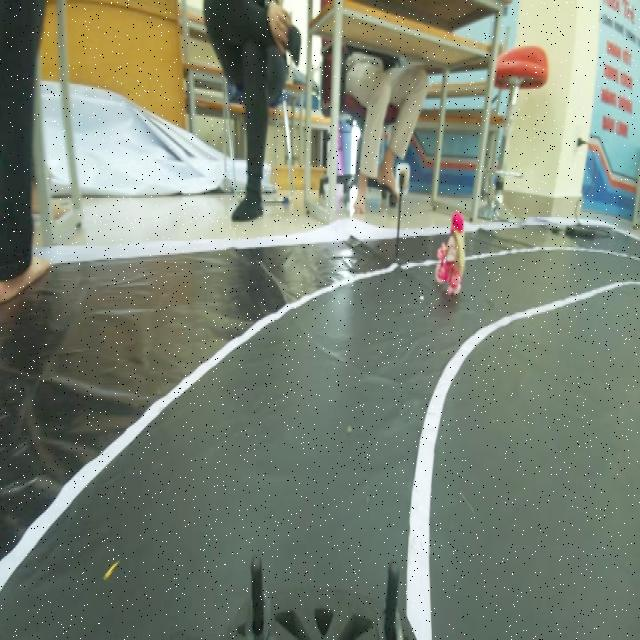pedestrian: (431, 207, 474, 308)
